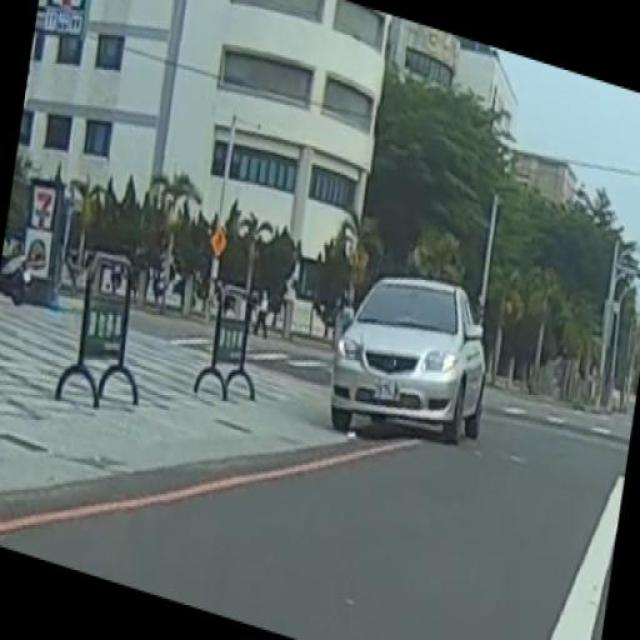Legalparking: (300, 268, 507, 454)
